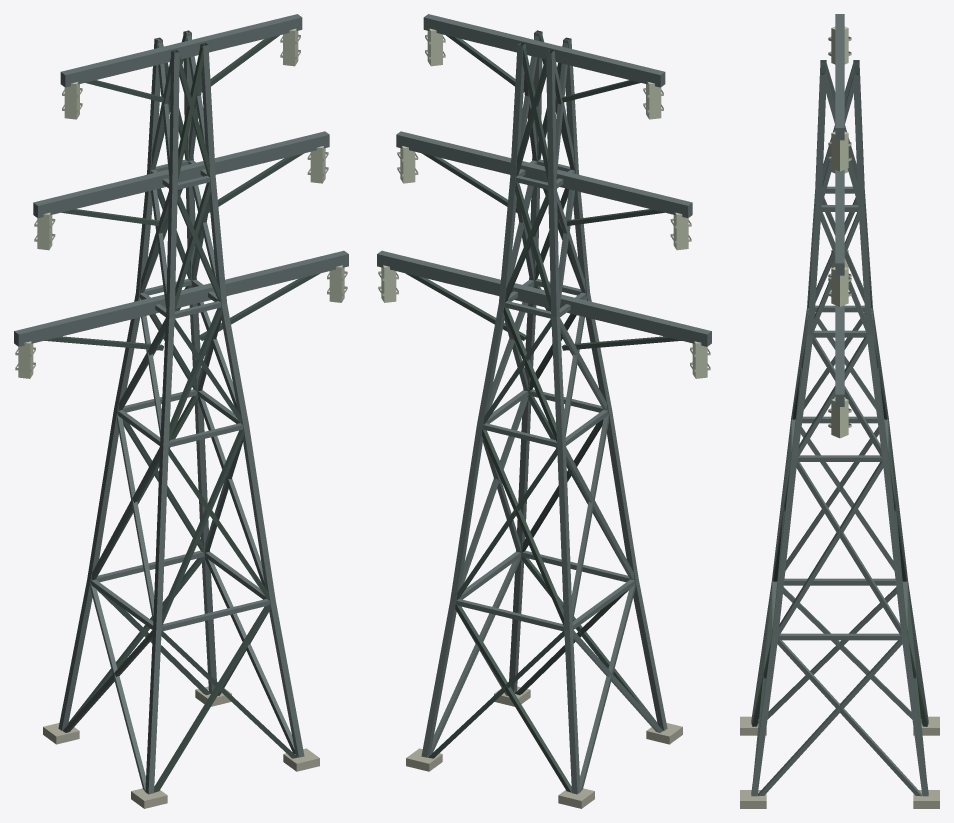
Rendered from ua_power_pylon.obj.
The picture shows the model from 3 angles, left to right: view 1: azimuth 30°, elevation 25°; view 2: azimuth 150°, elevation 25°; view 3: azimuth 270°, elevation 25°; orthographic projection.
Visible parts, largest first — view 1: ua_power_pylon; view 2: ua_power_pylon; view 3: ua_power_pylon.
Boxes of the visible parts, <box> form: ua_power_pylon: <box>14,14,348,808</box>; ua_power_pylon: <box>377,14,711,808</box>; ua_power_pylon: <box>740,14,939,808</box>.
Size of the model in its own units: 7.85 by 16.05 by 4.15.
